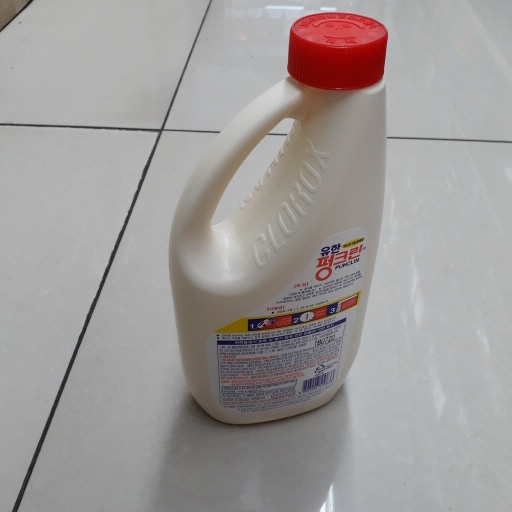Plastic_1: (169, 12, 385, 429)
